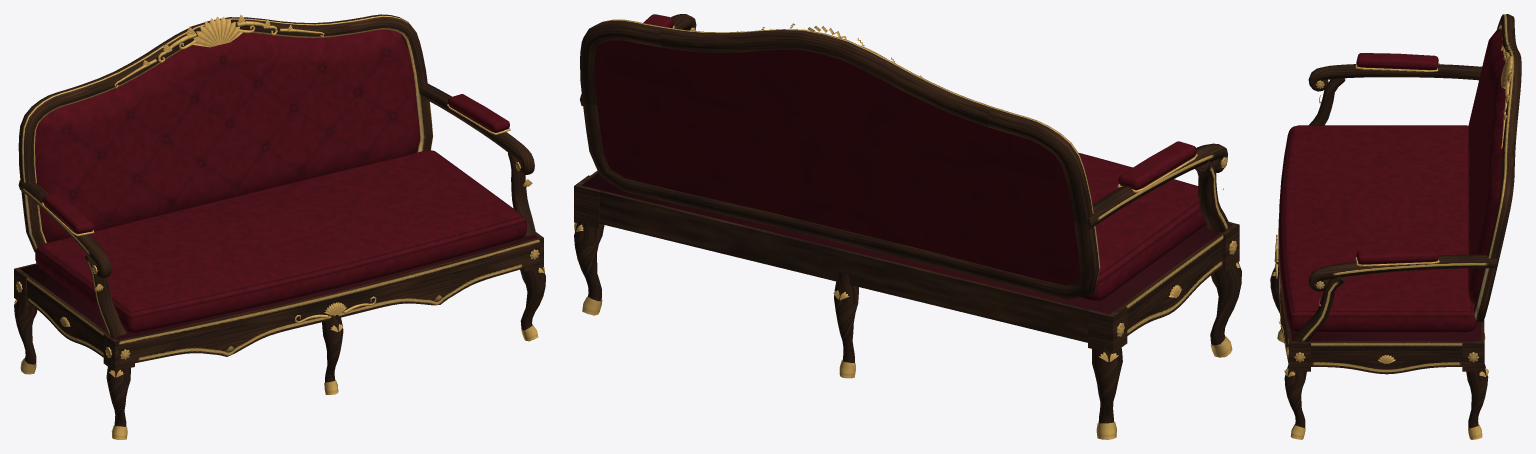
File: antique_canape_lod.glb
The picture shows the model from 3 angles, left to right: view 1: azimuth 30°, elevation 25°; view 2: azimuth 150°, elevation 25°; view 3: azimuth 270°, elevation 25°; orthographic projection. The views are drawn at different scales.
Parts seen in each view (by area): view 1: Upholstery_Velvet, Frame_Walnut, Gilding_GoldLeaf; view 2: Upholstery_Velvet, Frame_Walnut, Gilding_GoldLeaf; view 3: Upholstery_Velvet, Frame_Walnut, Gilding_GoldLeaf.
Boxes of the visible parts, <box> form: Upholstery_Velvet: <box>20,29,537,340</box>; Frame_Walnut: <box>14,14,545,426</box>; Gilding_GoldLeaf: <box>14,14,544,439</box>; Upholstery_Velvet: <box>581,14,1231,314</box>; Frame_Walnut: <box>574,14,1241,423</box>; Gilding_GoldLeaf: <box>574,23,1239,439</box>; Upholstery_Velvet: <box>1279,28,1505,341</box>; Frame_Walnut: <box>1270,14,1521,428</box>; Gilding_GoldLeaf: <box>1271,46,1512,439</box>.
Bounding box in the file's own units: 1.81 × 1.15 × 0.9267.
3 materials, 3 textured.
